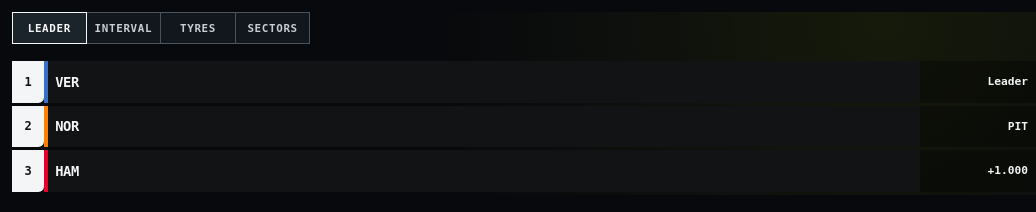
Test: shows interval as unavailable when adjacent cumulative gaps cannot produce a valid delta
The width and height of the screenshot is (1036, 212).
Step 1. Click the button "Interval" → (124, 28), box 87,12 -> 161,44
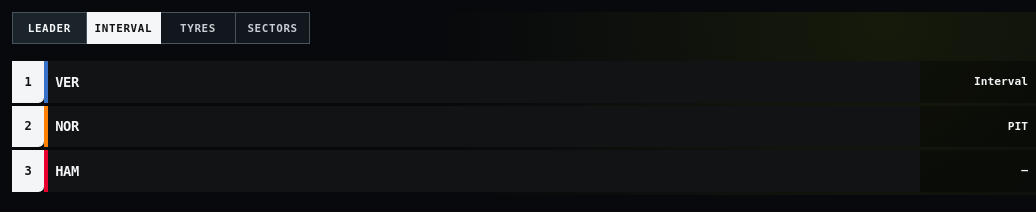
Expected: the row "3 HAM —" is shown, 12,150 -> 1035,192
